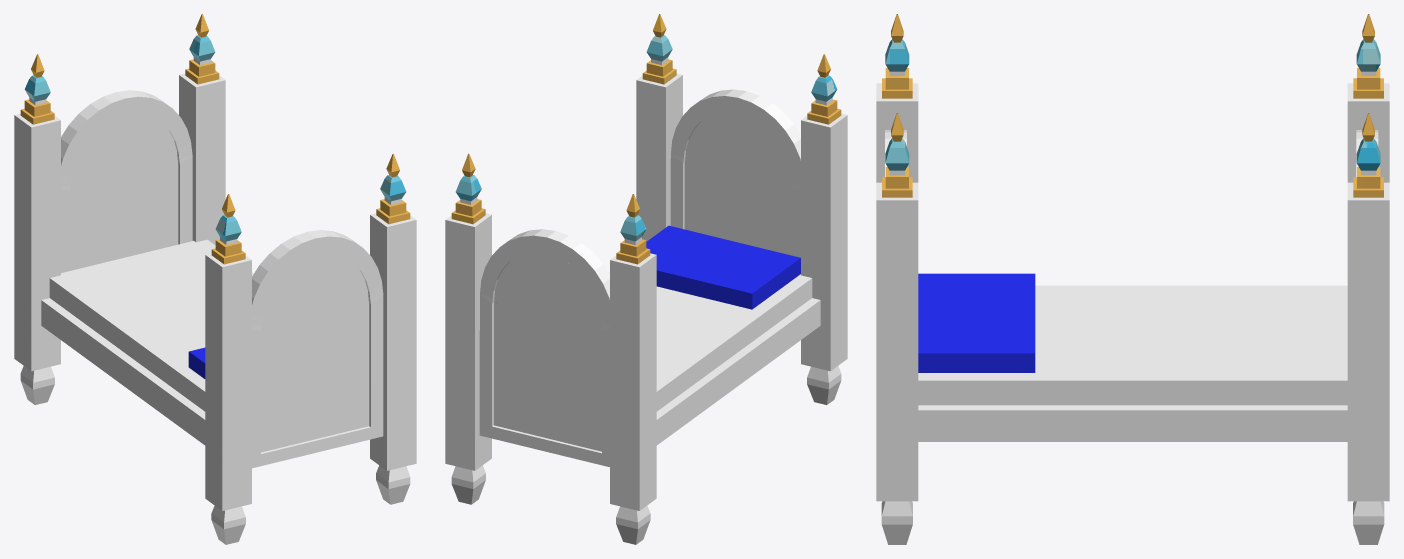
The model's file is royal_single_bed.obj.
The picture shows the model from 3 angles, left to right: view 1: azimuth 30°, elevation 25°; view 2: azimuth 150°, elevation 25°; view 3: azimuth 270°, elevation 25°; orthographic projection. The views are drawn at different scales.
Visible parts, largest first — view 1: Cube.008_Cube.004; view 2: Cube.008_Cube.004; view 3: Cube.008_Cube.004.
Boxes of the visible parts, box(x1,y1,x2,y2) form: Cube.008_Cube.004: box(14, 14, 416, 544); Cube.008_Cube.004: box(445, 14, 847, 544); Cube.008_Cube.004: box(876, 14, 1389, 544).
Size of the model in its own units: 2.46 by 4.2 by 4.57.
1 material, 1 textured.
